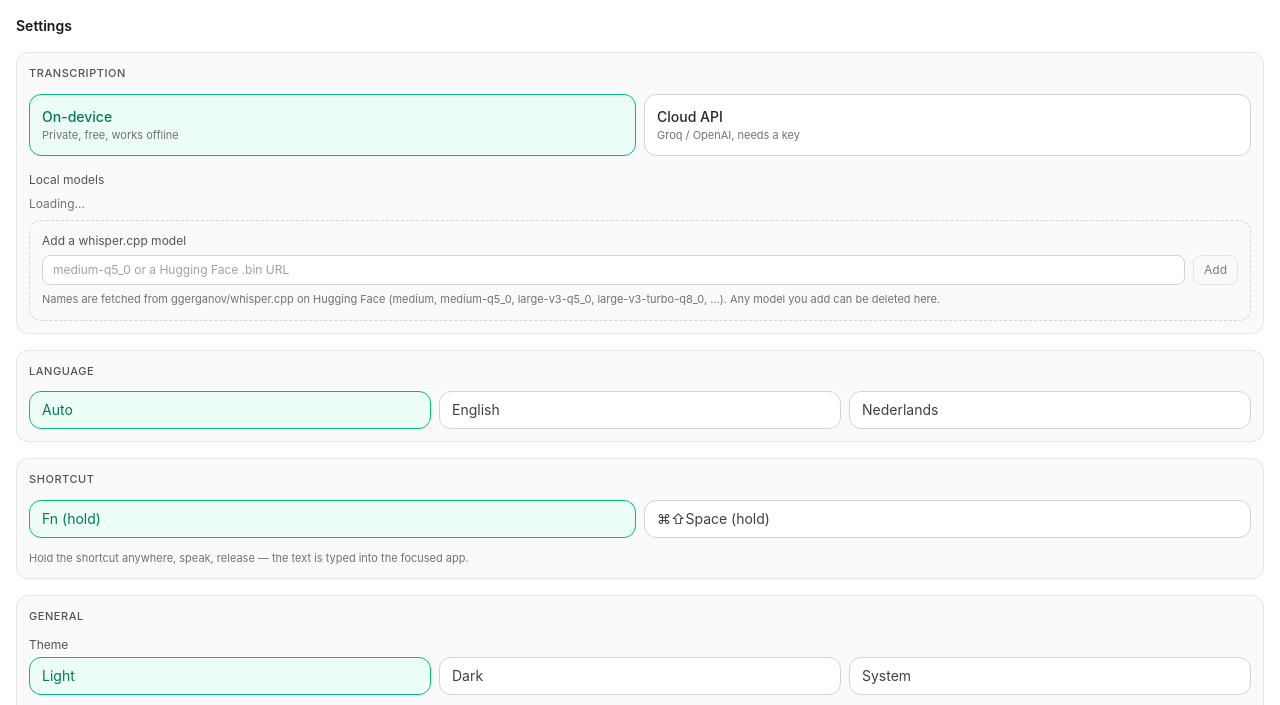
Test: Settings › adds a custom whisper model by name
Type " medium-q5_0 " into the field labelled "Add a whisper.cpp model" at (614, 270), box [42,255,1185,285]
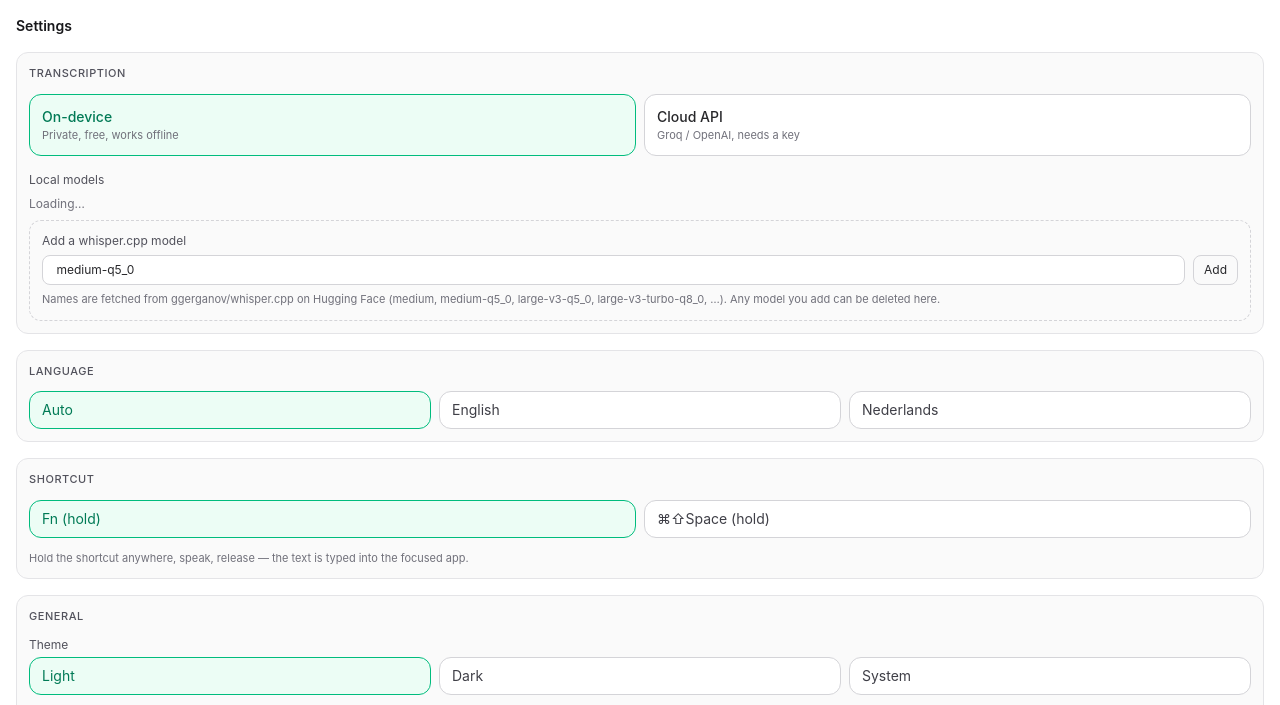
Click the button "Add" at (1216, 270), box [1193,255,1238,285]
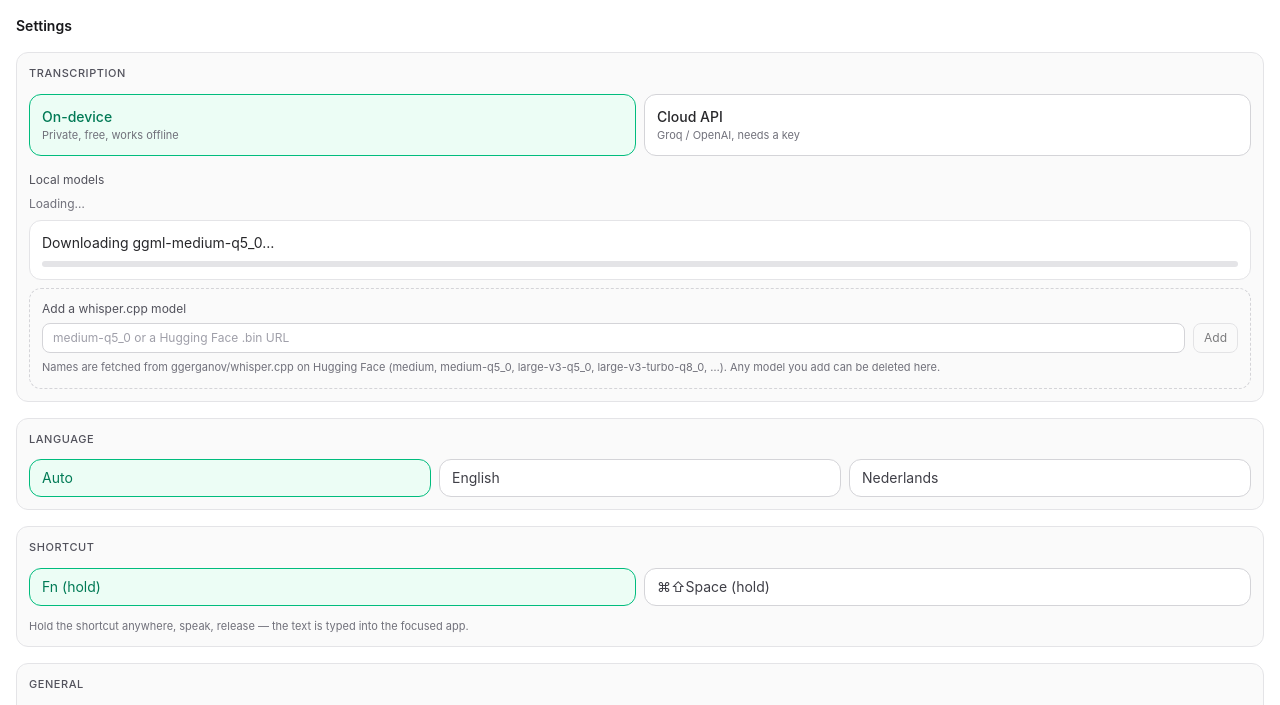
Expected: the text "Downloading ggml-medium-q5_0…" is shown, [42,234,274,251]
